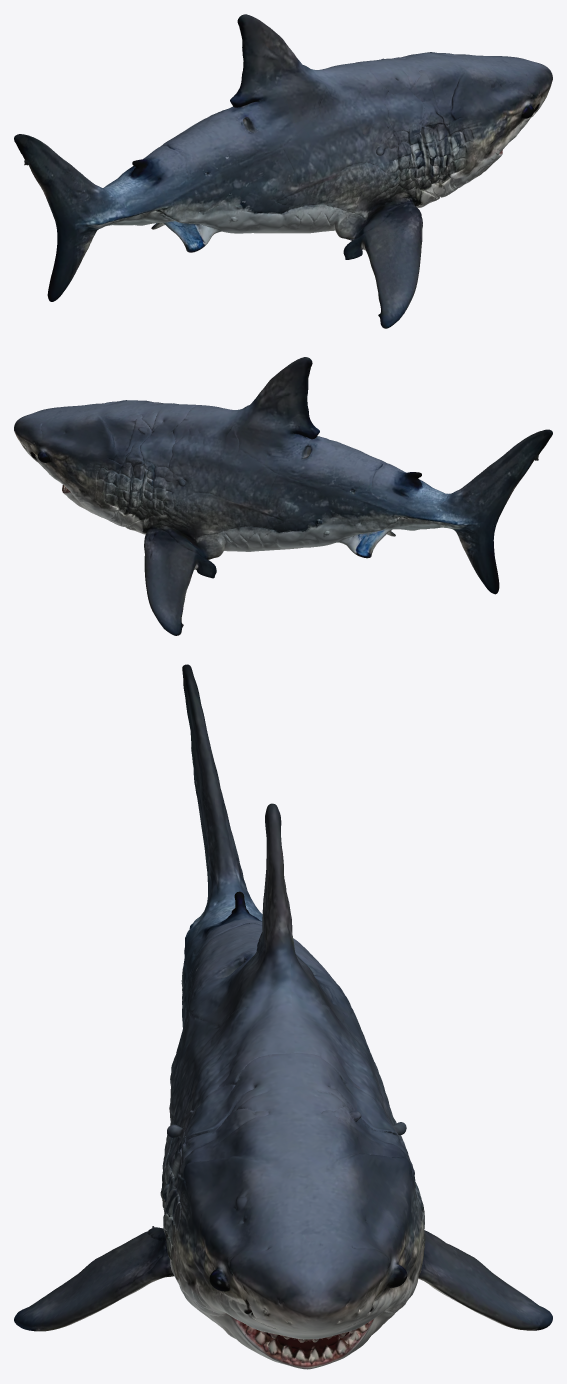
File: great_white.glb
3 views of the same model, one above another, from view 1: azimuth 30°, elevation 25°; view 2: azimuth 150°, elevation 25°; view 3: azimuth 270°, elevation 25° (orthographic). The views are drawn at different scales.
Parts seen in each view (by area): view 1: tripo_node_b7e2aa88-a8a7-44c7-ae26-84effc82bc98; view 2: tripo_node_b7e2aa88-a8a7-44c7-ae26-84effc82bc98; view 3: tripo_node_b7e2aa88-a8a7-44c7-ae26-84effc82bc98.
Part boxes in pixels (x1,y1,x2,y2): tripo_node_b7e2aa88-a8a7-44c7-ae26-84effc82bc98: (14,14,552,328); tripo_node_b7e2aa88-a8a7-44c7-ae26-84effc82bc98: (14,357,552,635); tripo_node_b7e2aa88-a8a7-44c7-ae26-84effc82bc98: (14,664,552,1369).
Size of the model in its own units: 0.9804 by 0.4484 by 0.4727.
Materials: 1 (1 with a texture image).
